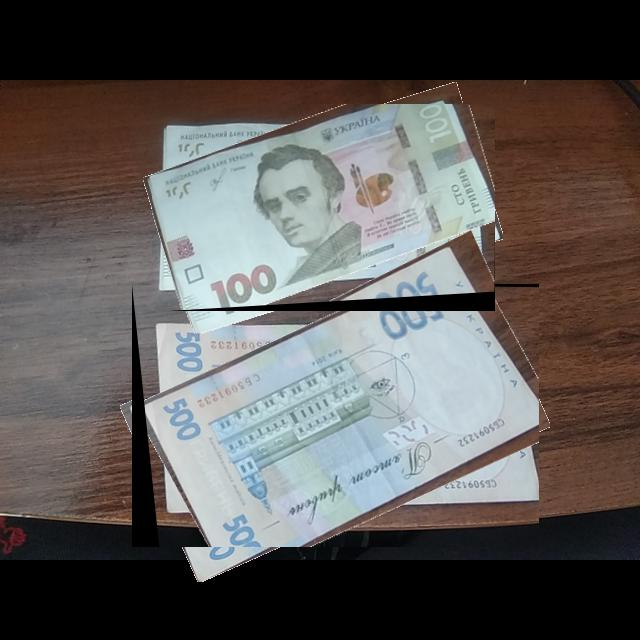100uah: (152, 104, 496, 312)
500uah: (132, 284, 540, 548)
